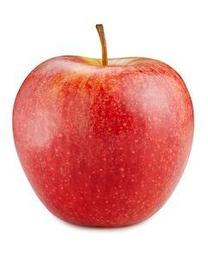apple: (11, 24, 194, 228)
